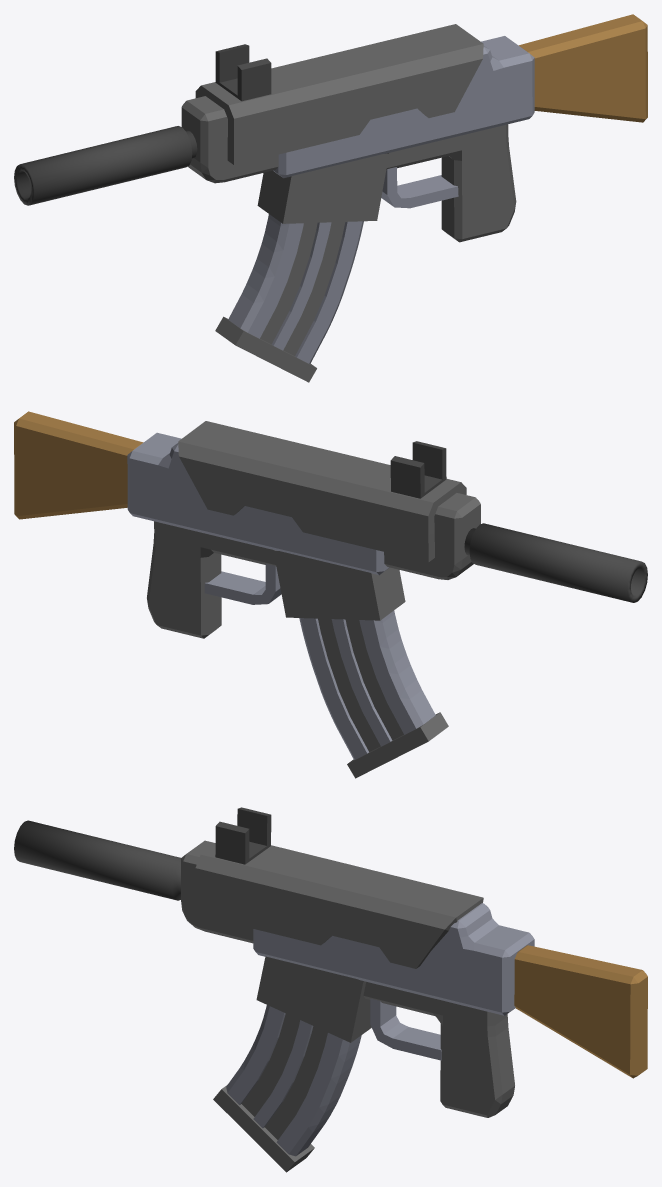
3 views of the same model, one above another, from view 1: azimuth 30°, elevation 25°; view 2: azimuth 150°, elevation 25°; view 3: azimuth 330°, elevation 25° (orthographic).
Parts seen in each view (by area): view 1: AK; view 2: AK; view 3: AK.
Part boxes in pixels (x1,y1,x2,y2): AK: (14,14,647,382); AK: (14,411,647,778); AK: (14,807,647,1172).
Size of the model in its own units: 1.42 by 0.7303 by 0.1537.
